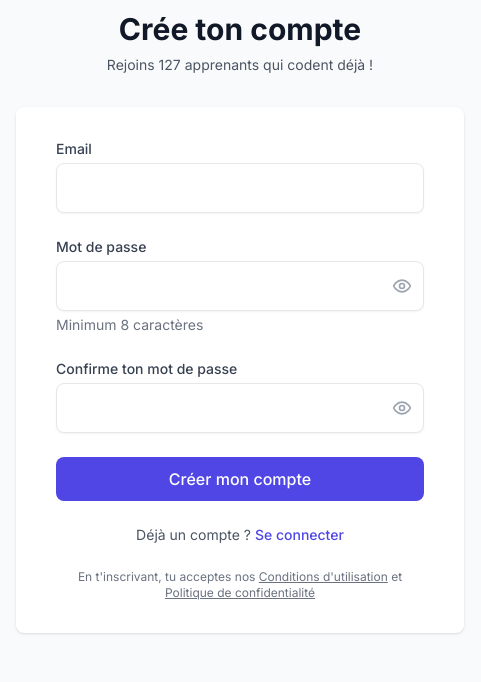
Test: RegisterPage Integration › Error handling › should display error when email already exists
Type "existing@example.com" into the field labelled "Email" at (240, 188), box [56,163,424,213]
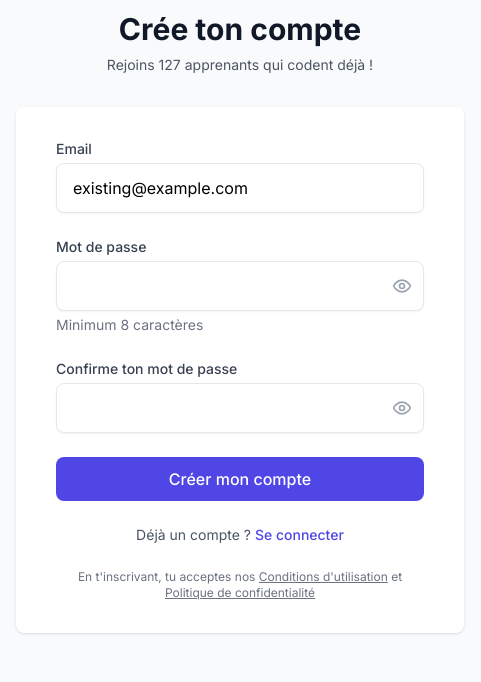
Type "password123" into the password field labelled "Mot de passe" at (240, 286), box [56,261,424,311]
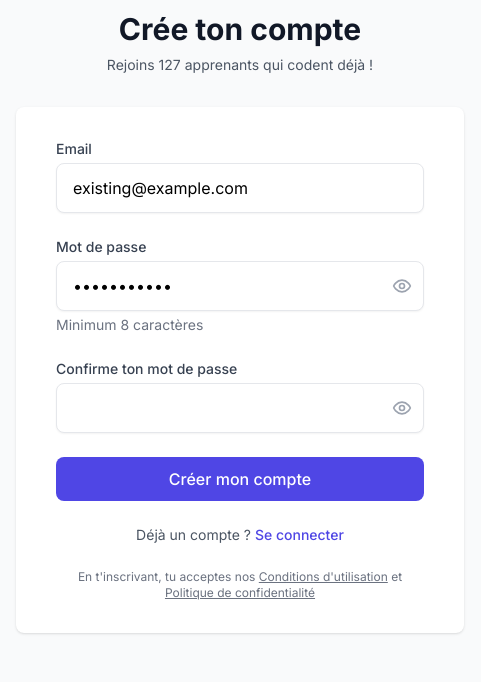
Type "password123" into the password field labelled "Confirme ton mot de passe" at (240, 408), box [56,383,424,433]
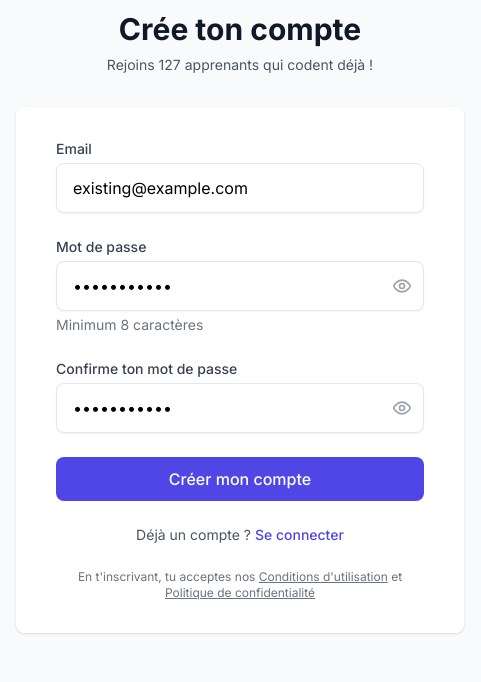
Click the button "Créer mon compte" at (240, 479), box [56,457,424,501]
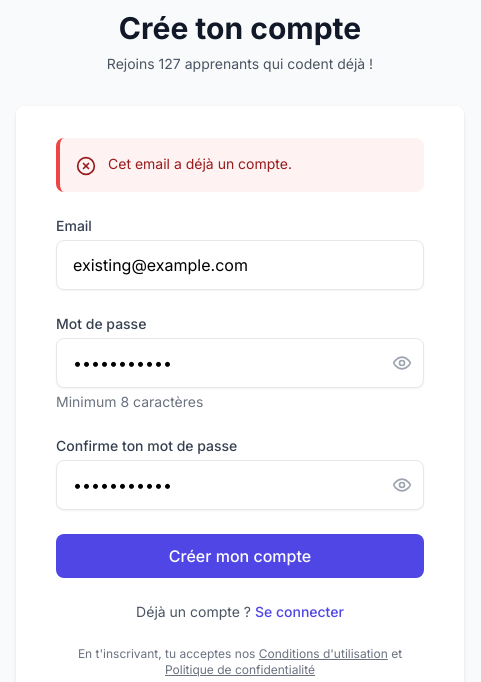
Now the message shows "Cet email a déjà un compte", box [108,155,292,172]
